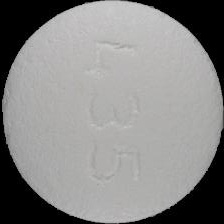54868-4561: (0, 0, 224, 224)
